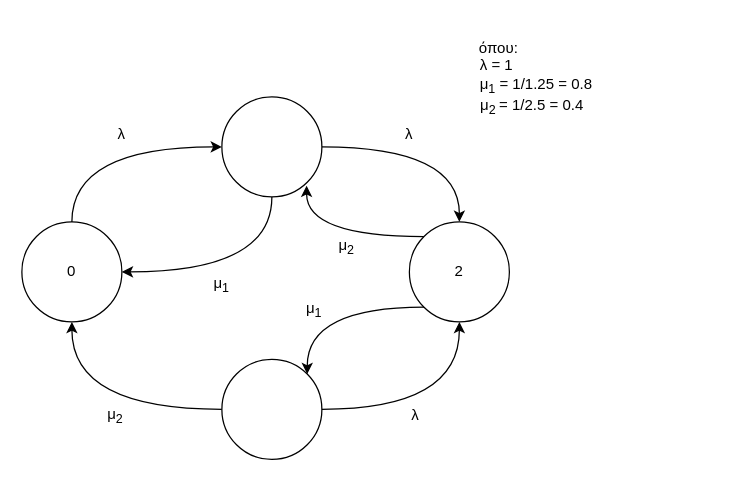
Image size: 738x481. Some labels were removed from this diagram. The shapes that lost their labels are listed below. From the top down, each one's centre as x and y in pixels, then its label:
At pixel 271 146: "1a".
At pixel 271 408: "1b".
